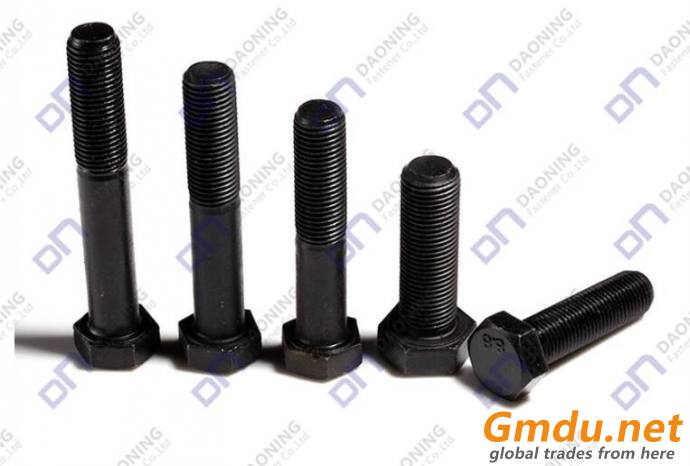screw: (67, 21, 161, 370), (178, 61, 262, 373), (466, 269, 656, 399), (281, 100, 362, 382), (378, 155, 476, 379)
